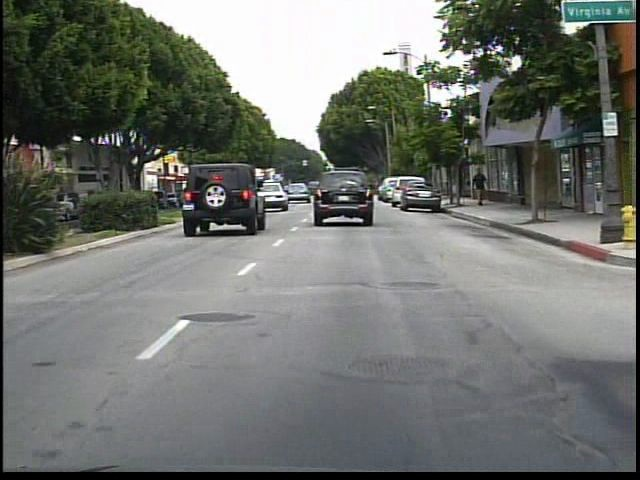person: (469, 166, 490, 210)
